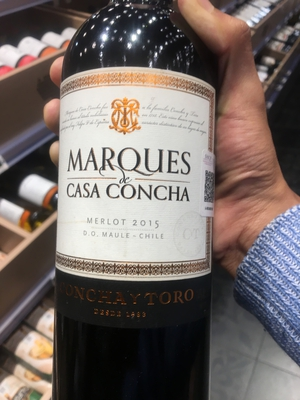marques de casa concha merlot: (49, 17, 226, 400)
